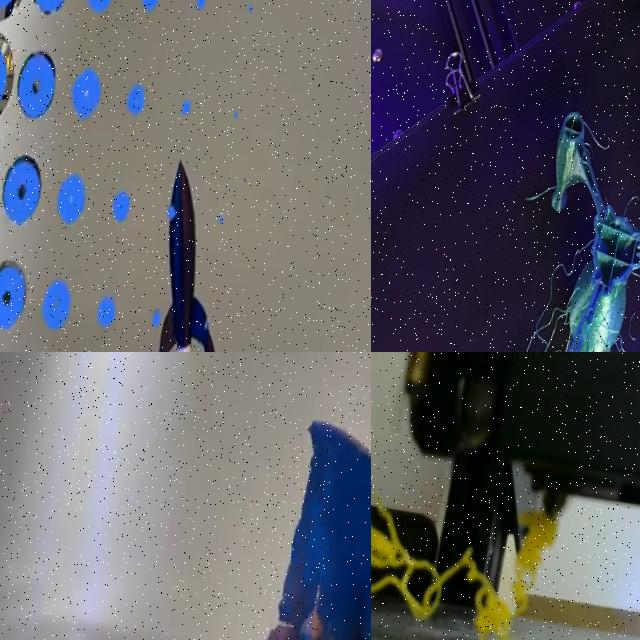spaghetti: (371, 494, 556, 640), (510, 276, 566, 352)
